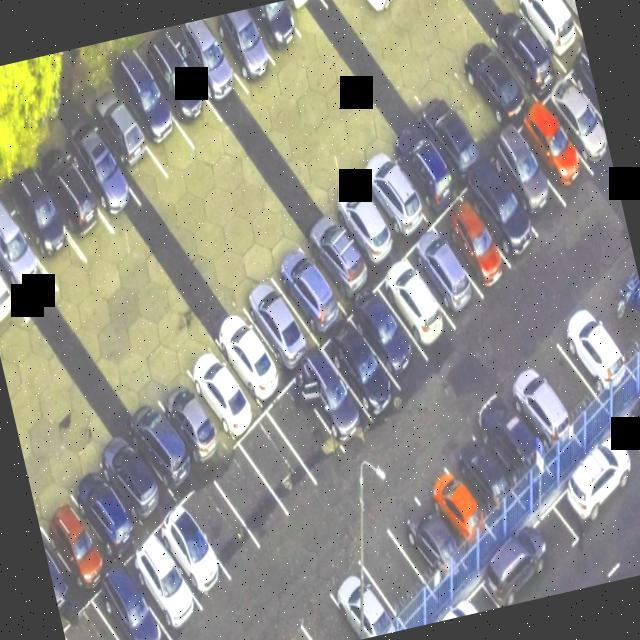car: (65, 411, 186, 546), (121, 349, 237, 488), (158, 324, 273, 456), (186, 302, 300, 432), (102, 383, 212, 510), (310, 290, 418, 418), (482, 110, 582, 246), (452, 142, 558, 268), (368, 481, 482, 598), (472, 494, 588, 608), (31, 474, 129, 608), (44, 452, 150, 574), (542, 409, 640, 539), (423, 173, 527, 294), (507, 83, 603, 214), (219, 270, 327, 386), (278, 325, 381, 446), (335, 138, 443, 251), (309, 163, 411, 281), (368, 235, 468, 355), (488, 340, 584, 465), (442, 22, 540, 143), (406, 446, 503, 564), (468, 0, 573, 108), (366, 108, 469, 217), (543, 294, 640, 409), (430, 409, 525, 524), (0, 168, 95, 283), (256, 241, 356, 347), (27, 146, 122, 257), (285, 204, 382, 311), (456, 378, 552, 486), (118, 531, 212, 640), (148, 496, 240, 607), (398, 212, 493, 318), (399, 82, 495, 186), (348, 273, 441, 380), (60, 107, 148, 220), (130, 30, 218, 142), (534, 64, 614, 184), (82, 88, 171, 190), (0, 197, 71, 322), (108, 41, 192, 146), (313, 549, 407, 640), (492, 0, 589, 81), (170, 12, 252, 107), (203, 2, 292, 88), (39, 518, 97, 640), (87, 564, 179, 640), (557, 42, 610, 159), (401, 570, 502, 628), (0, 229, 41, 348), (235, 0, 308, 56), (540, 0, 586, 56)
free: (518, 320, 614, 446), (203, 426, 305, 544), (340, 514, 442, 632), (260, 359, 354, 481), (416, 56, 514, 172), (232, 400, 326, 516), (176, 466, 275, 576), (571, 266, 640, 384), (281, 584, 375, 640), (57, 586, 154, 640)
